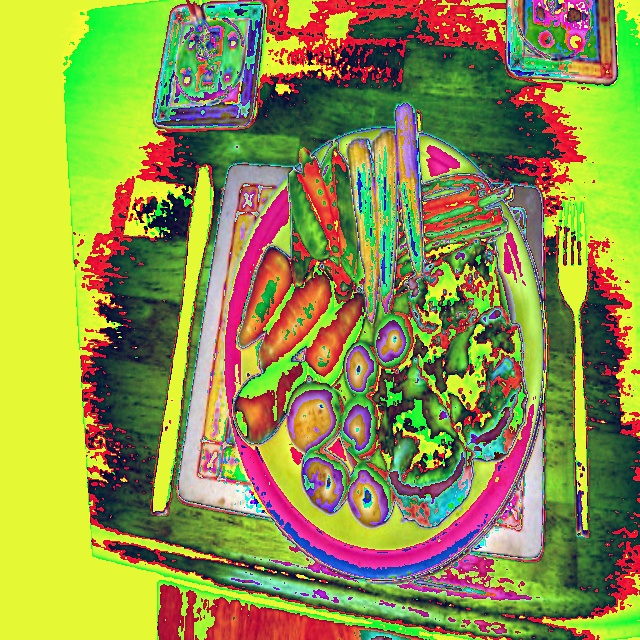background: (233, 100, 527, 528)
